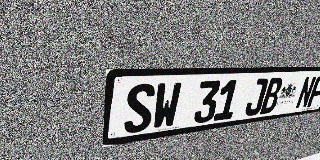1: (213, 79, 241, 121)
3: (193, 80, 221, 124)
B: (260, 78, 284, 114)
F: (307, 76, 320, 107)
J: (244, 78, 269, 117)
N: (295, 76, 317, 109)
S: (123, 83, 156, 134)
W: (151, 82, 182, 130)
